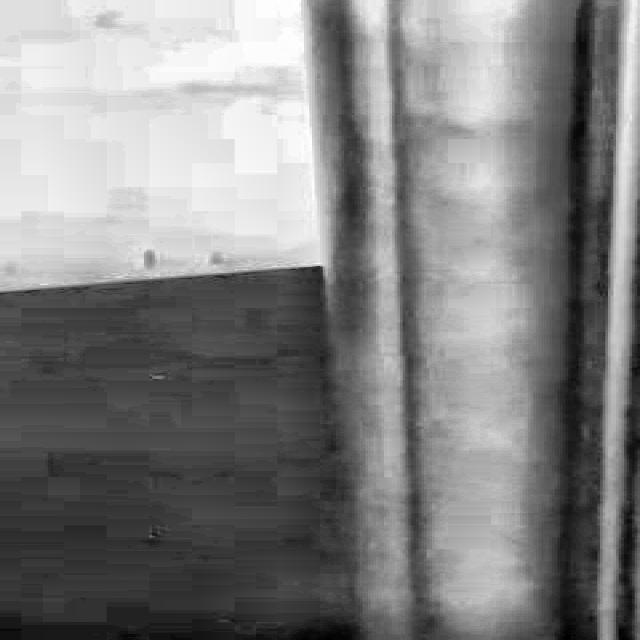bottle: (299, 0, 640, 640)
